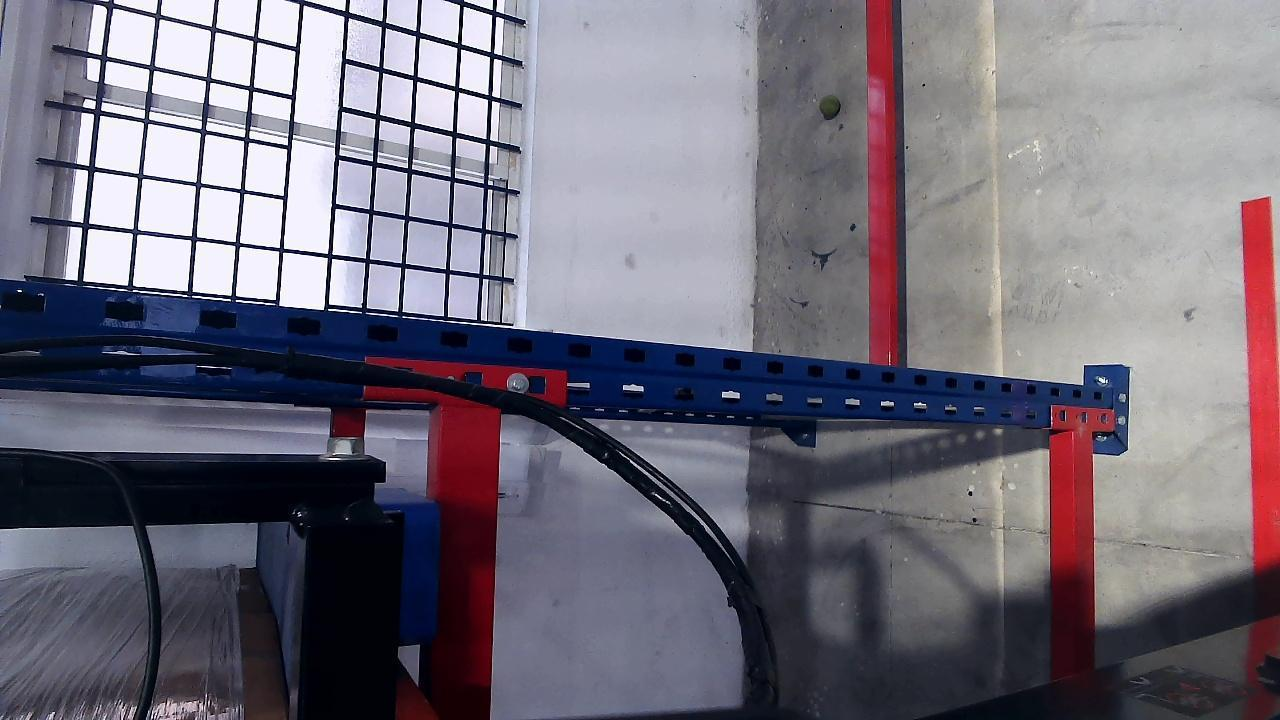red_line: (1239, 195, 1278, 569)
